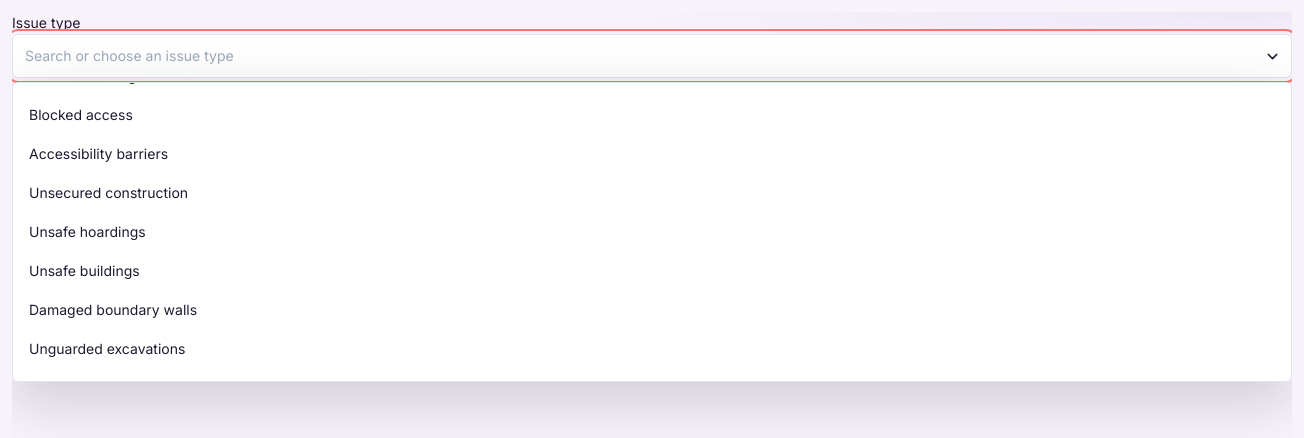
it: browses all 70 grouped issues and selects an unsafe hoarding without typing
(page scrolled)
Click the option "Unsafe hoardings" at (87, 232), box [29, 224, 146, 240]
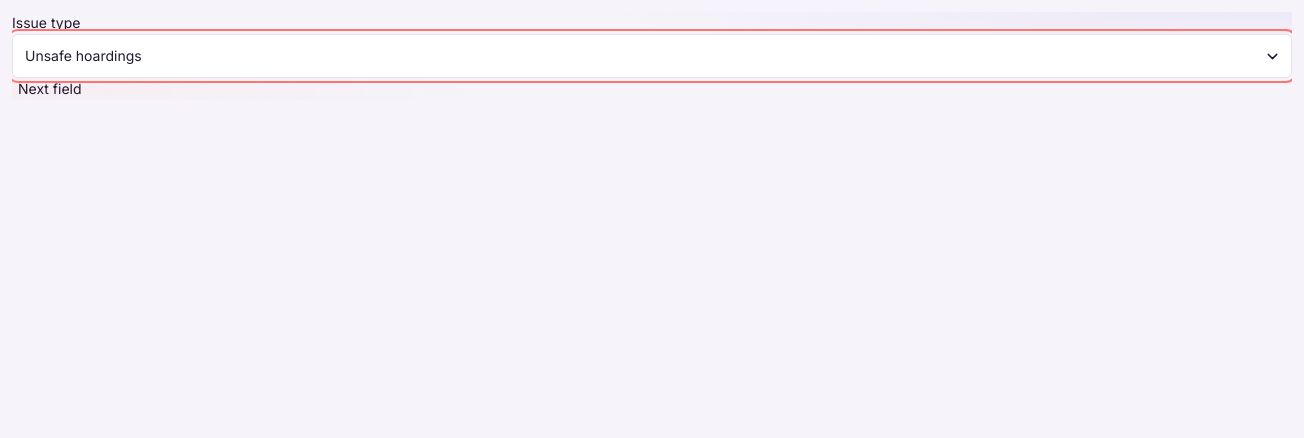
Expected: the dropdown labelled "Issue type" holds "Unsafe hoardings", [12, 34, 1292, 78]
